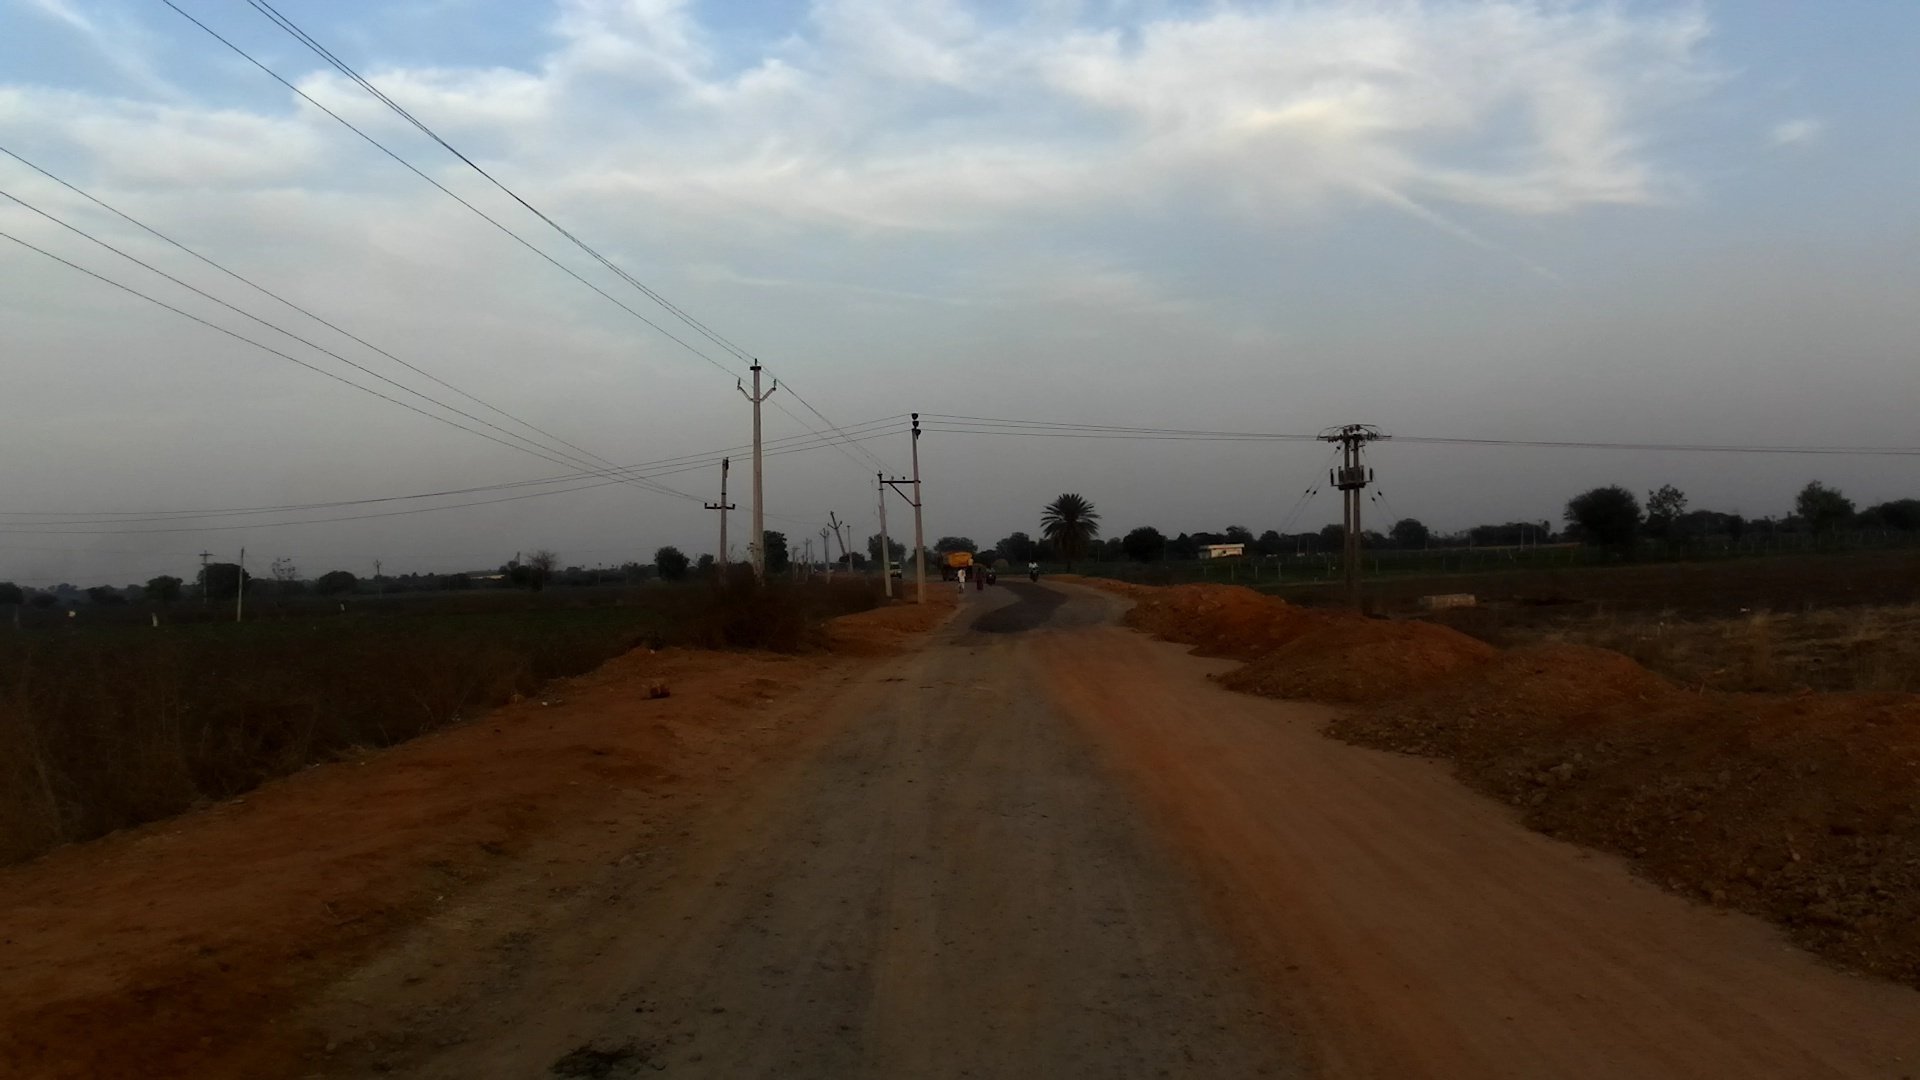car: (885, 562, 903, 583)
motorcycle: (1028, 566, 1043, 583), (984, 572, 997, 589)
person: (971, 568, 987, 595), (958, 566, 970, 595)
rider: (982, 564, 997, 581), (1029, 557, 1041, 574)
truck: (939, 552, 976, 586)
